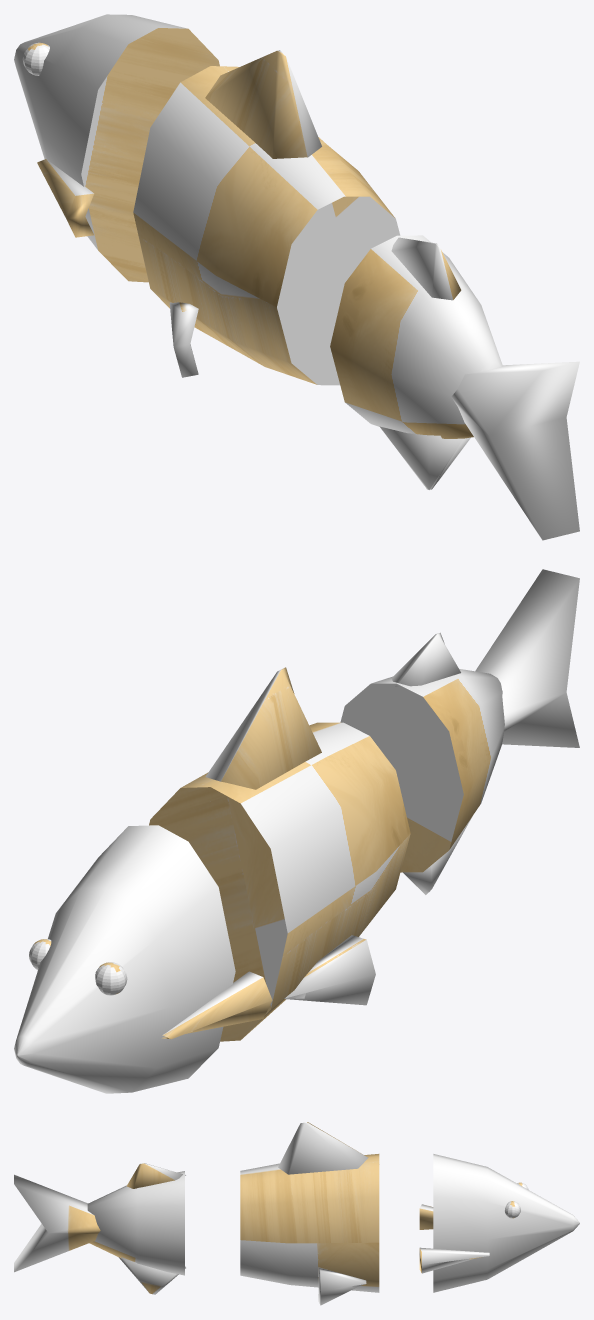
The model's file is Bocachico cortar.fbx.
The picture shows the model from 3 angles, top to bottom: view 1: azimuth 30°, elevation 25°; view 2: azimuth 150°, elevation 25°; view 3: azimuth 270°, elevation 25°; orthographic projection. The views are drawn at different scales.
Visible parts, largest first — view 1: mitad, cola, cabeza; view 2: mitad, cabeza, cola; view 3: mitad, cabeza, cola.
Part boxes in pixels (x1,y1,x2,y2): mitad: (133, 50, 400, 385); cola: (330, 235, 579, 540); cabeza: (14, 14, 219, 282); mitad: (149, 667, 410, 1041); cabeza: (14, 825, 272, 1093); cola: (340, 569, 579, 894); mitad: (240, 1122, 379, 1305); cabeza: (419, 1154, 579, 1292); cola: (14, 1163, 185, 1294).
Bounding box in the file's own units: 340 × 522 × 1553.
